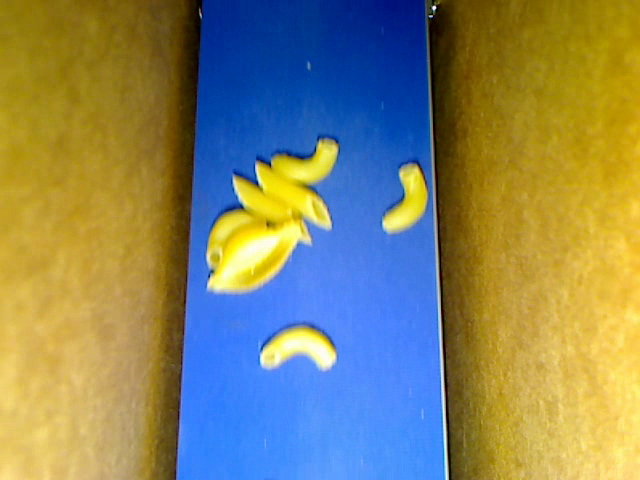elbow: (205, 208, 268, 269), (258, 324, 337, 370), (381, 163, 428, 234), (270, 137, 339, 185)
penne: (231, 174, 312, 244), (254, 160, 330, 229)
shell: (206, 227, 302, 292)
